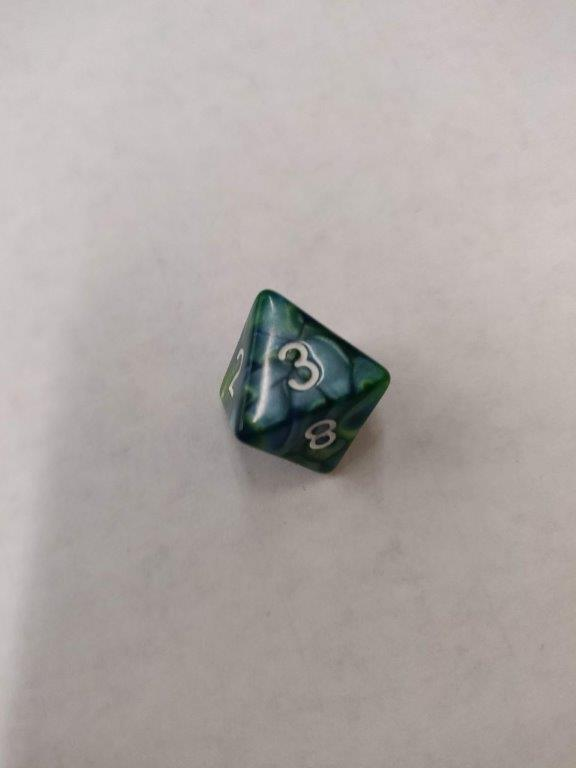d8-3: (218, 287, 393, 476)
